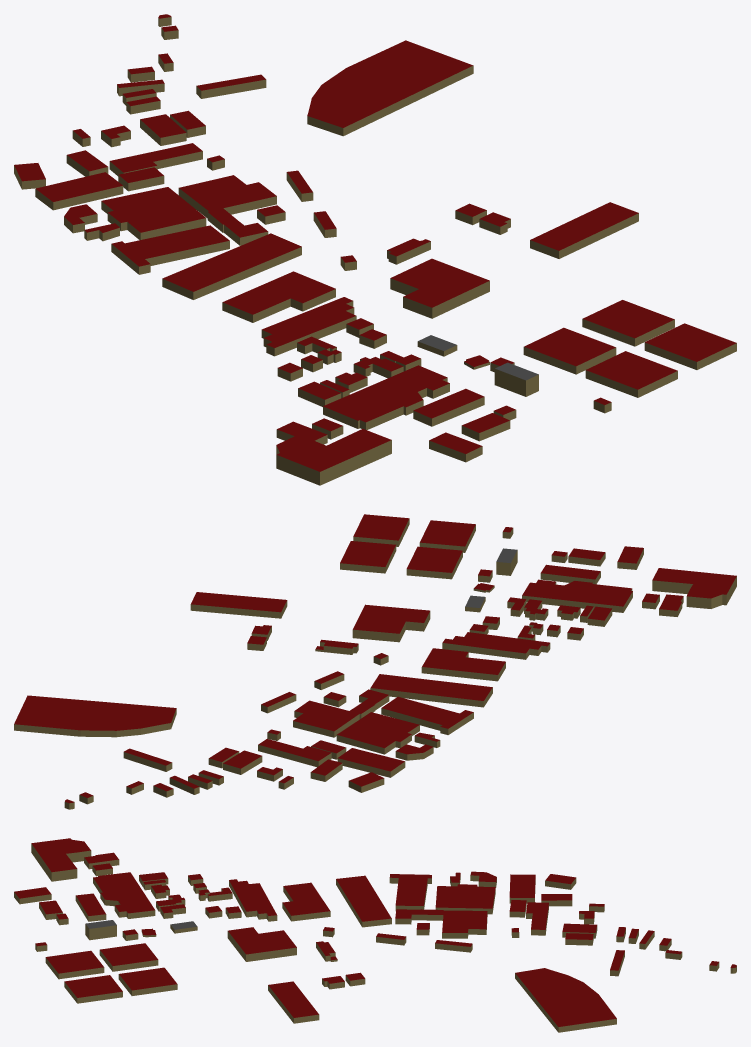
File: Ingolstadt_Tile_10_7.obj
The picture shows the model from 3 angles, top to bottom: view 1: azimuth 30°, elevation 25°; view 2: azimuth 150°, elevation 25°; view 3: azimuth 270°, elevation 25°; orthographic projection. The views are drawn at different scales.
Parts seen in each view (by area): view 1: Building Platz am Donau Essemble, Building33, Building46, Building59, Building CW34, Building6, Building45, Building7, Building CA33, Building43, Building49, Building CW37 (+12 smaller); view 2: Building Platz am Donau Essemble, Building46, Building33, Building59, Building6, Building CW34, Building43, Building45, Building CA33, Building7, Building49, Building CW37 (+13 smaller); view 3: Building Platz am Donau Essemble, Building33, Building59, Building CW34, Building46, Building6, Building45, Building CA33, Building43, Building CW37, Building CW38 A, Building CW39 (+16 smaller).
Part boxes in pixels (x1=…): Building Platz am Donau Essemble: x1=307, y1=40, x2=473, y2=136; Building33: x1=323, y1=365, x2=449, y2=429; Building46: x1=162, y1=233, x2=301, y2=299; Building59: x1=276, y1=429, x2=391, y2=485; Building CW34: x1=390, y1=258, x2=489, y2=318; Building6: x1=101, y1=187, x2=206, y2=239; Building45: x1=222, y1=271, x2=335, y2=322; Building7: x1=111, y1=225, x2=229, y2=274; Building CA33: x1=530, y1=202, x2=638, y2=258; Building43: x1=261, y1=297, x2=356, y2=356; Building49: x1=178, y1=175, x2=276, y2=218; Building CW37: x1=523, y1=327, x2=616, y2=374; Building Platz am Donau Essemble: x1=14, y1=695, x2=176, y2=737; Building46: x1=370, y1=674, x2=492, y2=707; Building33: x1=522, y1=579, x2=632, y2=612; Building59: x1=652, y1=568, x2=736, y2=608; Building6: x1=336, y1=712, x2=419, y2=754; Building CW34: x1=352, y1=604, x2=430, y2=642; Building43: x1=442, y1=632, x2=550, y2=659; Building45: x1=421, y1=648, x2=505, y2=681; Building CA33: x1=190, y1=592, x2=287, y2=618; Building7: x1=381, y1=696, x2=473, y2=734; Building49: x1=293, y1=700, x2=359, y2=737; Building CW37: x1=406, y1=546, x2=462, y2=579; Building Platz am Donau Essemble: x1=515, y1=968, x2=616, y2=1032; Building33: x1=93, y1=872, x2=155, y2=918; Building59: x1=31, y1=838, x2=91, y2=881; Building CW34: x1=227, y1=927, x2=296, y2=961; Building46: x1=336, y1=875, x2=391, y2=927; Building6: x1=435, y1=884, x2=495, y2=914; Building45: x1=282, y1=882, x2=330, y2=921; Building CA33: x1=268, y1=981, x2=319, y2=1023; Building43: x1=229, y1=879, x2=277, y2=921; Building CW37: x1=99, y1=943, x2=158, y2=971; Building CW38 A: x1=118, y1=967, x2=177, y2=995; Building CW39: x1=45, y1=950, x2=104, y2=979.
Bounding box in the file's own units: 523 × 15 × 864.
